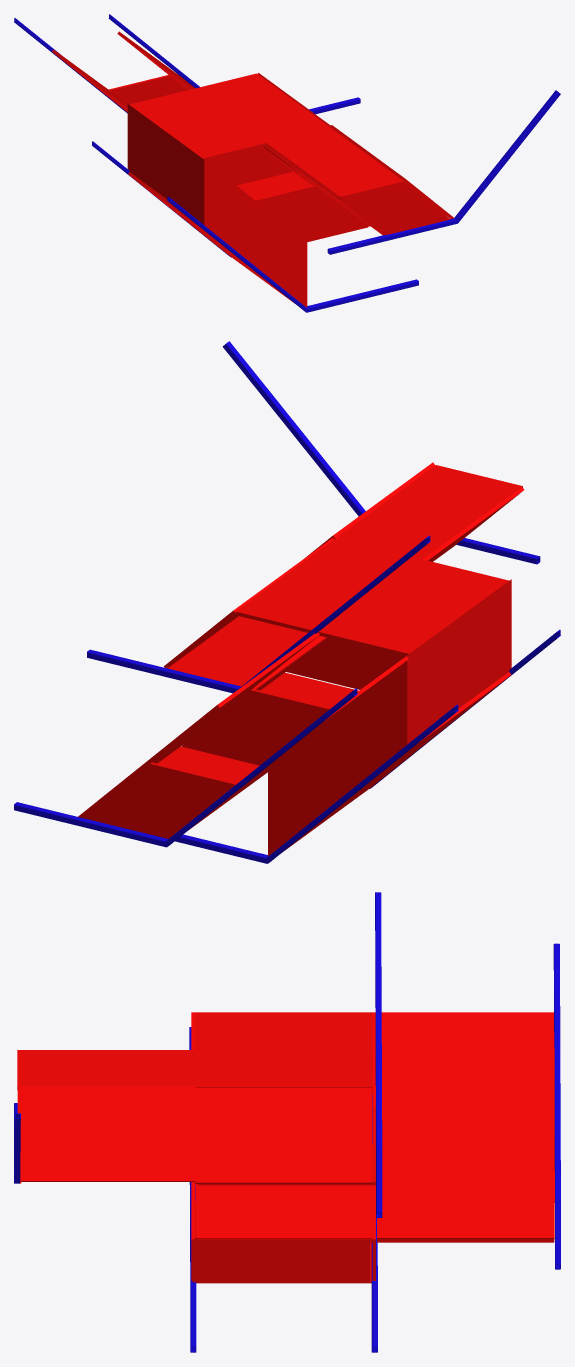
3 renders of one model, top to bottom at view 1: azimuth 30°, elevation 25°; view 2: azimuth 150°, elevation 25°; view 3: azimuth 270°, elevation 25°, orthographic. The views are drawn at different scales.
Parts seen in each view (by area): view 1: Obj_000001; view 2: Obj_000001; view 3: Obj_000001.
Boxes of the visible parts, box(x1,y1,x2,y2) form: Obj_000001: box(14, 14, 560, 312); Obj_000001: box(14, 341, 560, 863); Obj_000001: box(14, 892, 560, 1352).
Bounding box in the file's own units: 2.52 × 2.02 × 3.08.
